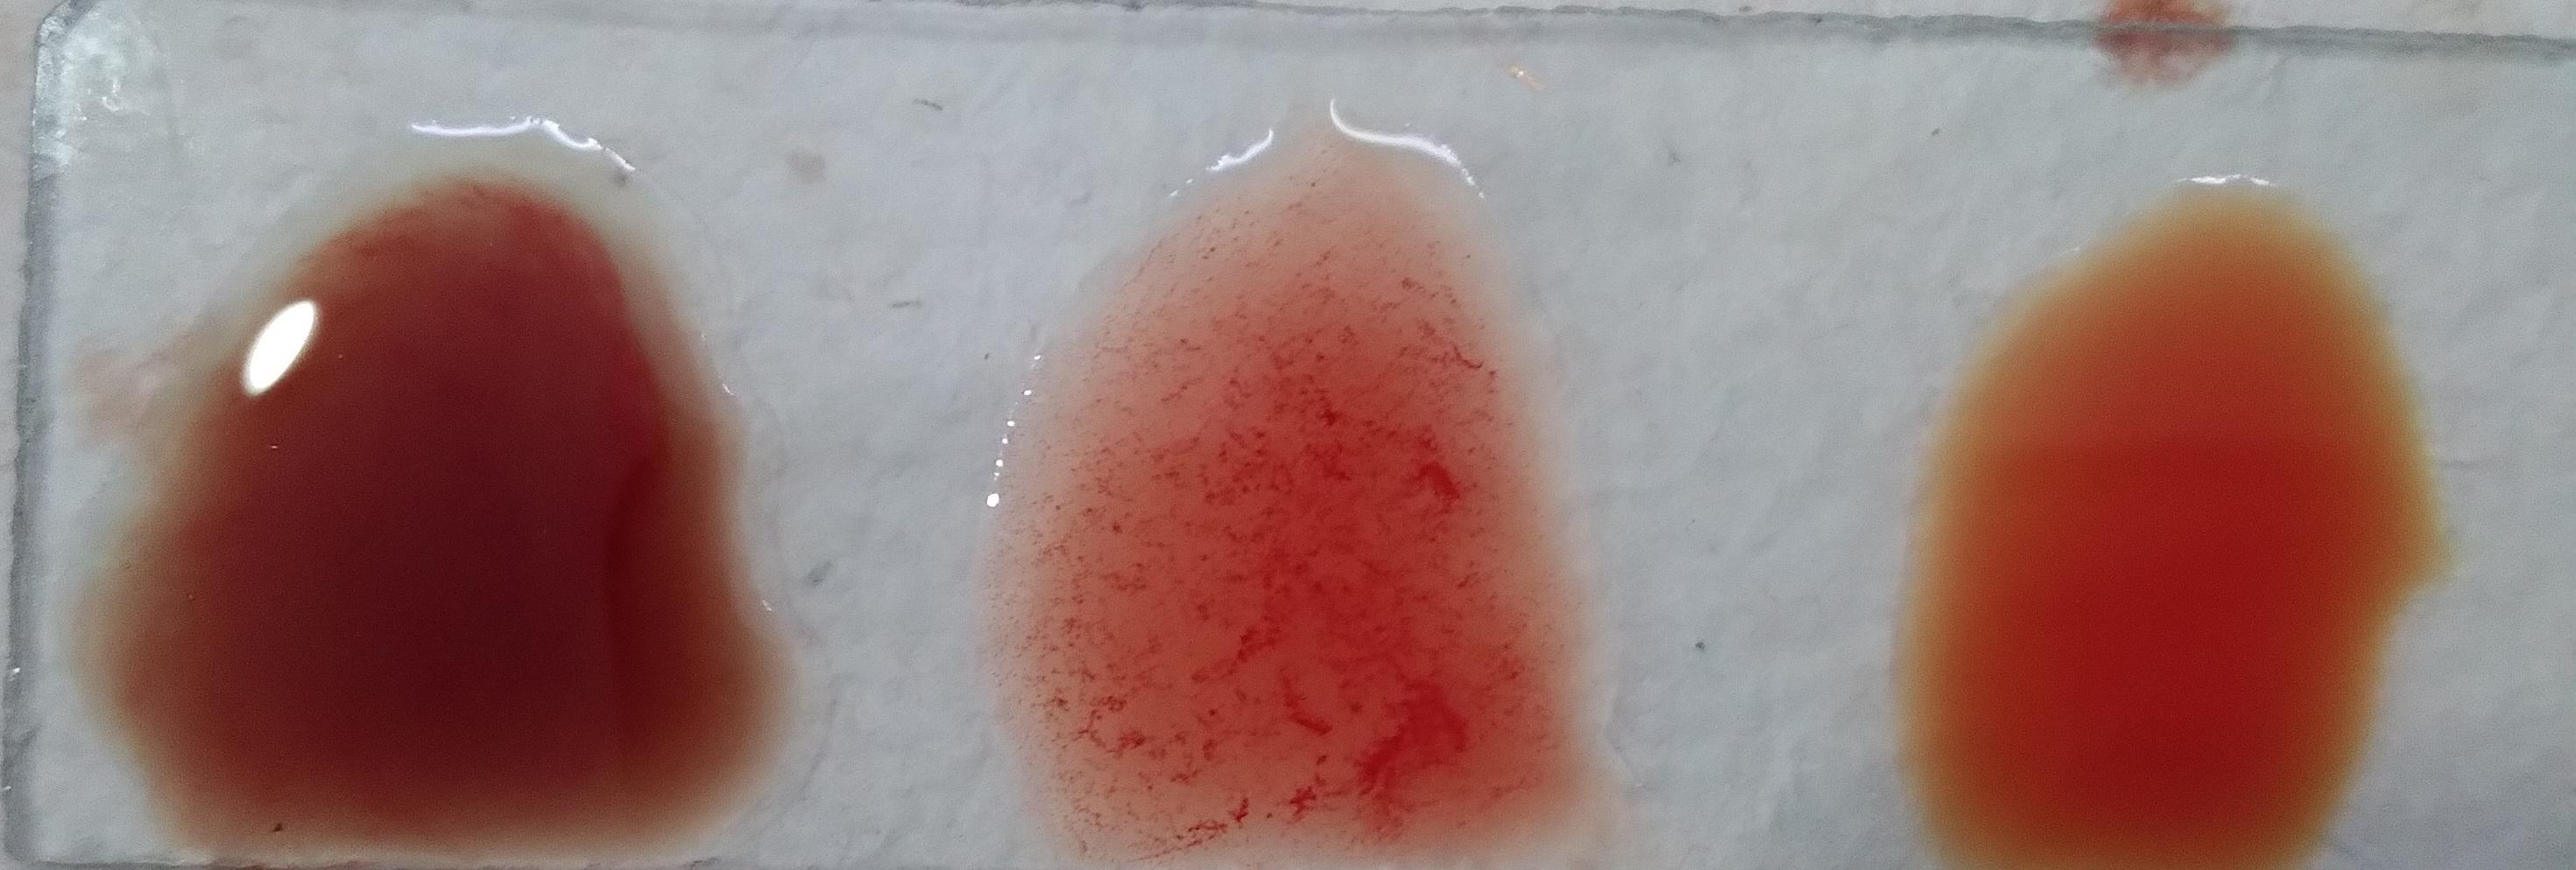D: (984, 0, 1579, 724)
